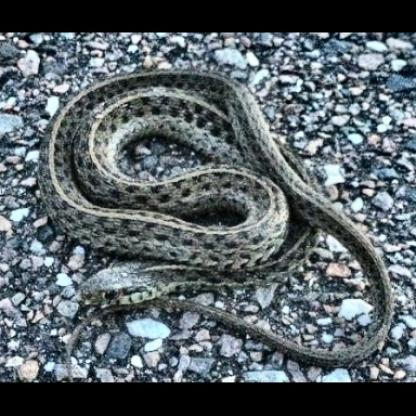Snake: (44, 62, 396, 375)
